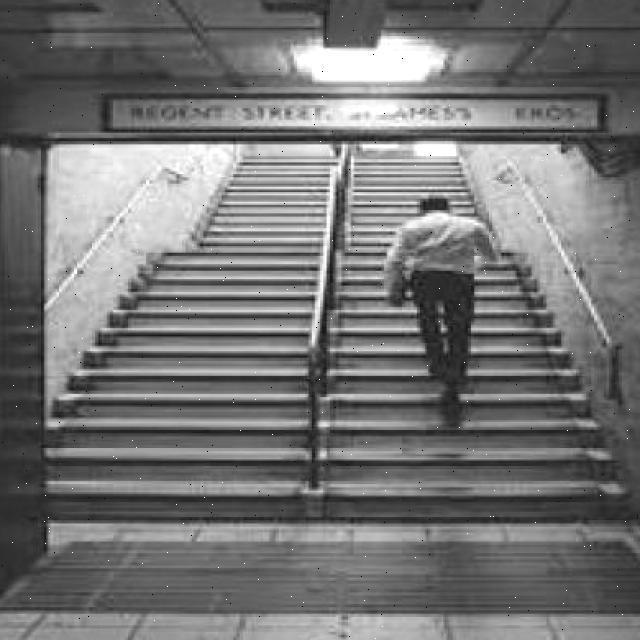stair: (102, 335, 579, 476)
